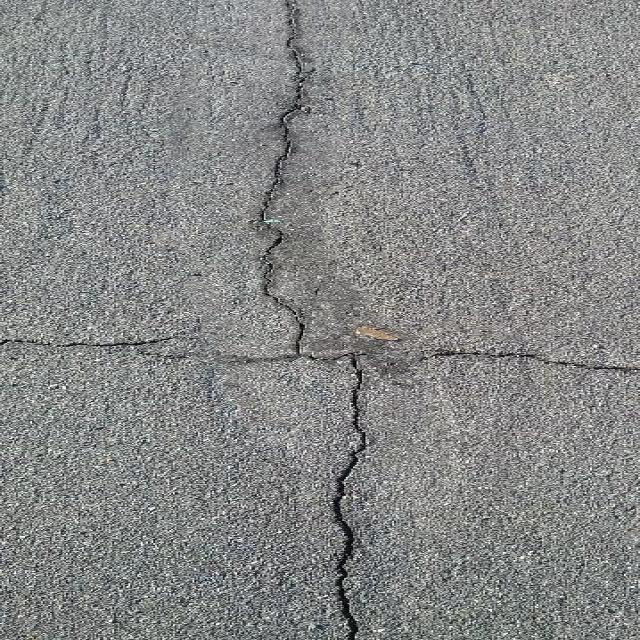Crack: (236, 0, 406, 640), (0, 317, 203, 375), (403, 332, 640, 381)
